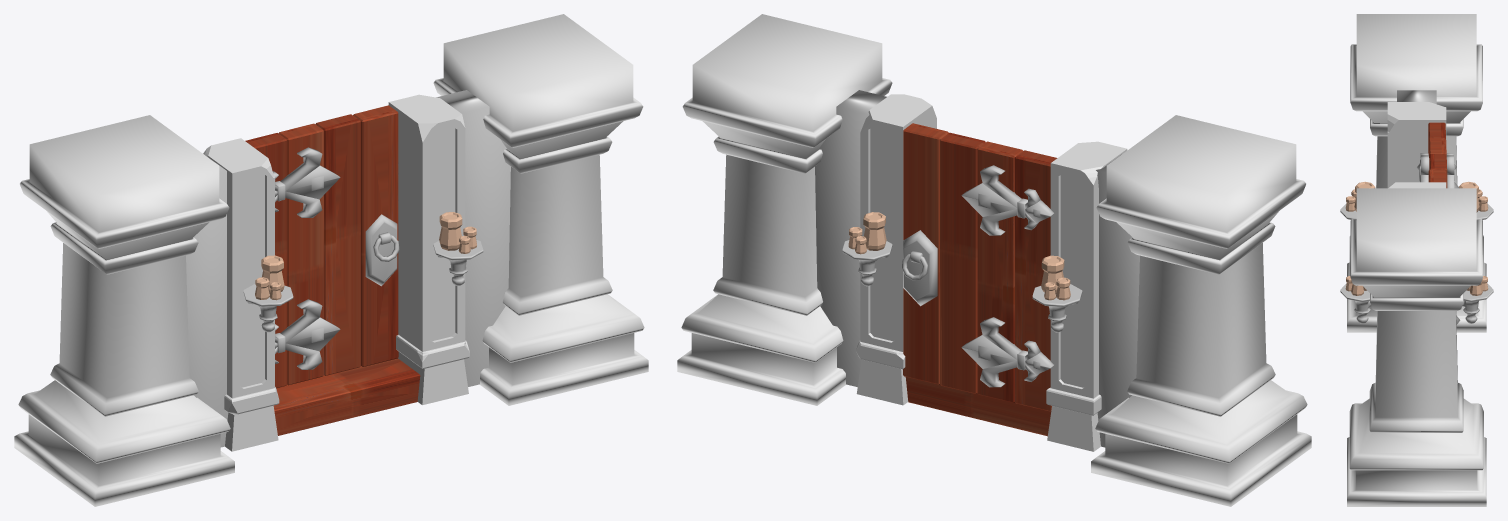
File: doors.fbx
The picture shows the model from 3 angles, left to right: view 1: azimuth 30°, elevation 25°; view 2: azimuth 150°, elevation 25°; view 3: azimuth 270°, elevation 25°; orthographic projection. The views are drawn at different scales.
Visible parts, largest first — view 1: columne, frame, doors, wall, plank, candle_holder_v2.001, Cylinder.052; view 2: columne, doors, frame, wall, plank, candle_holder_v2.001, Cylinder.052; view 3: columne, frame, doors, candle_holder_v2.001, wall, Cylinder.002, Cylinder.052, Cylinder.003.
Part boxes in pixels (x1,y1,x2,y2): columne: (14,14,648,506); frame: (203,94,469,451); doors: (245,105,399,388); wall: (186,90,510,447); plank: (273,358,420,435); candle_holder_v2.001: (243,240,483,332); Cylinder.052: (261,212,462,293); columne: (677,14,1311,506); doors: (901,123,1057,411); frame: (856,94,1127,451); wall: (815,90,1139,447); plank: (905,377,1050,436); candle_holder_v2.001: (842,240,1082,332); Cylinder.052: (863,212,1064,294); columne: (1347,14,1486,506); frame: (1387,102,1446,188); doors: (1417,122,1460,324); candle_holder_v2.001: (1340,203,1493,323); wall: (1397,90,1436,104); Cylinder.002: (1345,196,1488,291); Cylinder.052: (1354,181,1479,290); Cylinder.003: (1351,189,1482,295).
Size of the model in its own units: 1410 by 744 by 392.
